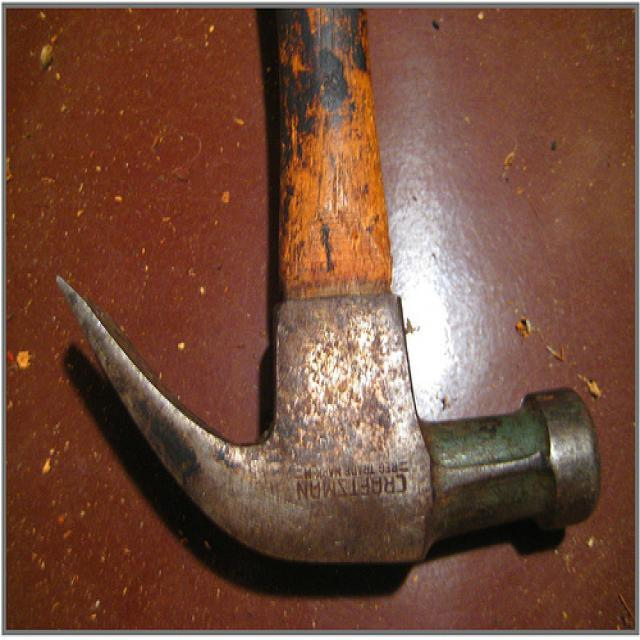hammer: (36, 71, 626, 604)
